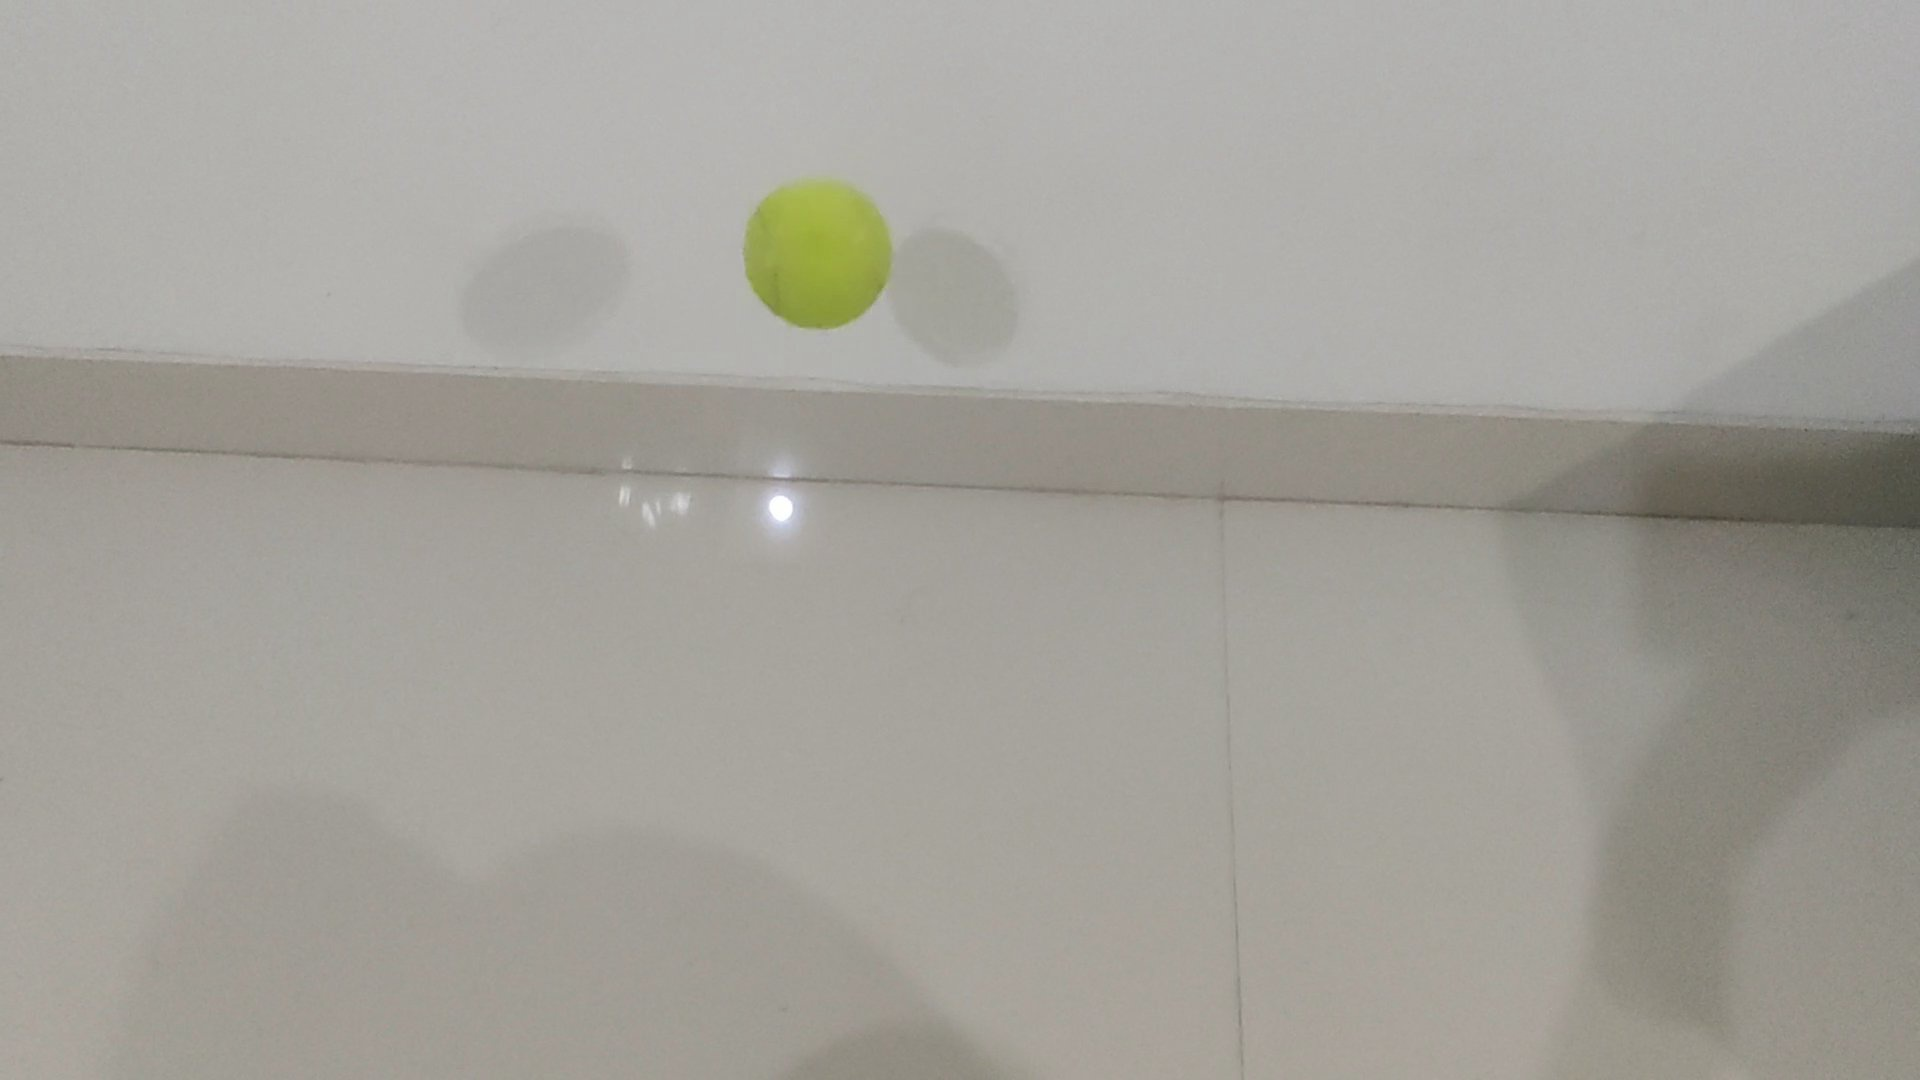Tennis-Ball: (742, 179, 893, 328)
